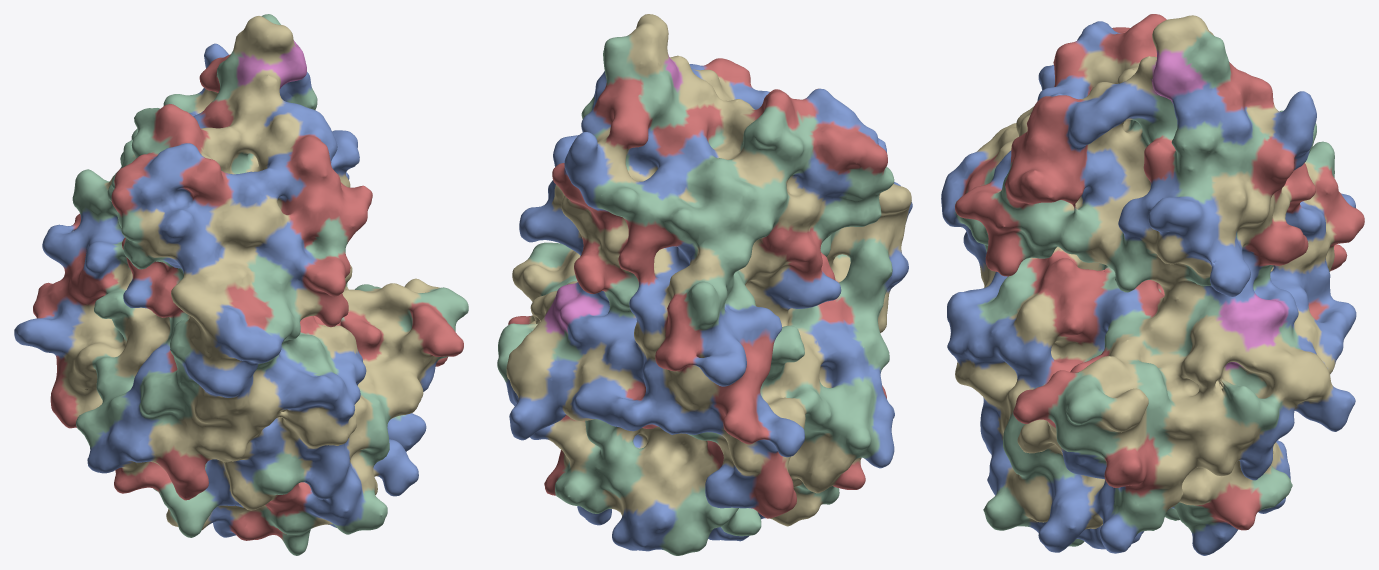
Rendered from 1ATP_chainE_surface.glb.
3 renders of one model, left to right at view 1: azimuth 30°, elevation 25°; view 2: azimuth 150°, elevation 25°; view 3: azimuth 270°, elevation 25°, orthographic. The views are drawn at different scales.
Visible parts, largest first — view 1: geometry_0; view 2: geometry_0; view 3: geometry_0.
Boxes of the visible parts, left/top/right/bottom form: geometry_0: left=14, top=14, right=468, bottom=555; geometry_0: left=497, top=14, right=912, bottom=555; geometry_0: left=941, top=14, right=1364, bottom=555.
Bounding box in the file's own units: 51.13 × 67.54 × 48.14.
